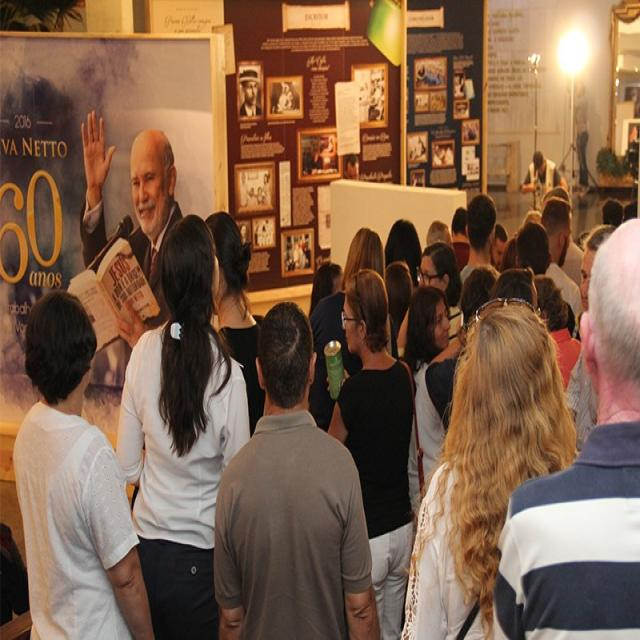body: (485, 198, 639, 639), (402, 298, 580, 640), (114, 211, 256, 639), (212, 301, 382, 640), (9, 286, 158, 638), (325, 266, 420, 640), (65, 101, 194, 366), (236, 63, 482, 189), (484, 183, 638, 378), (306, 224, 400, 434), (401, 282, 467, 516), (204, 212, 266, 440), (532, 273, 584, 397), (416, 240, 466, 350), (284, 233, 343, 324), (456, 191, 506, 288), (419, 198, 472, 278), (519, 148, 567, 219), (384, 219, 422, 288), (618, 74, 639, 159), (237, 215, 274, 248), (489, 220, 510, 270), (240, 190, 275, 208)
